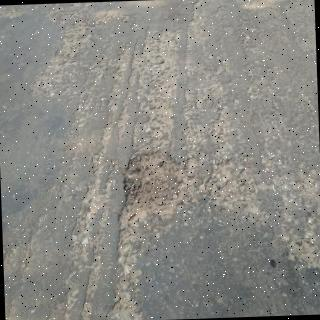pothole: (119, 153, 206, 228)
